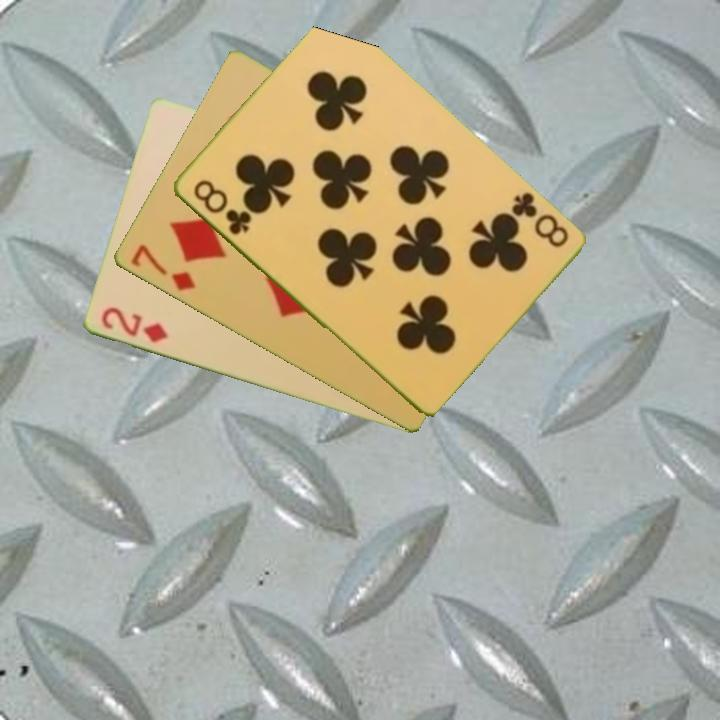2d: (97, 304, 171, 346)
7d: (126, 240, 198, 294)
8c: (189, 176, 254, 239), (507, 188, 571, 251)
